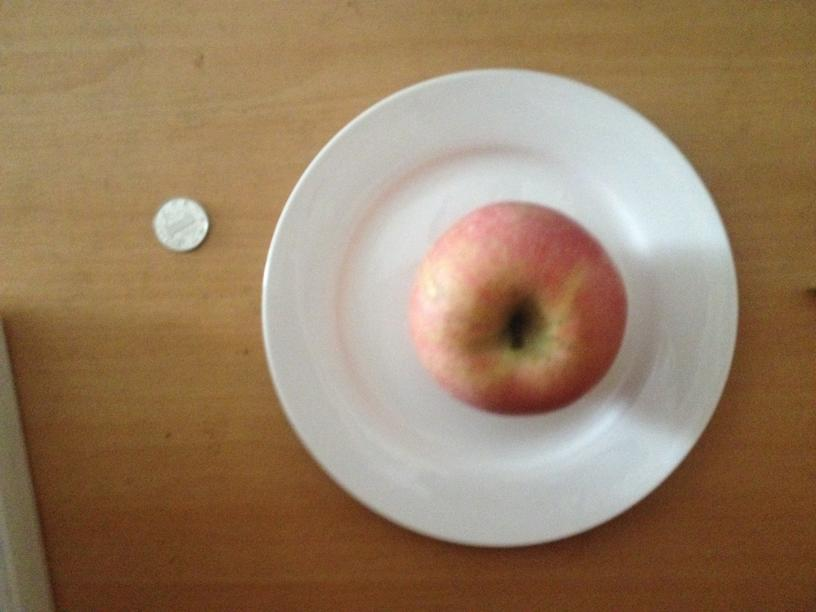apple: (409, 203, 626, 417)
coin: (154, 198, 210, 251)
